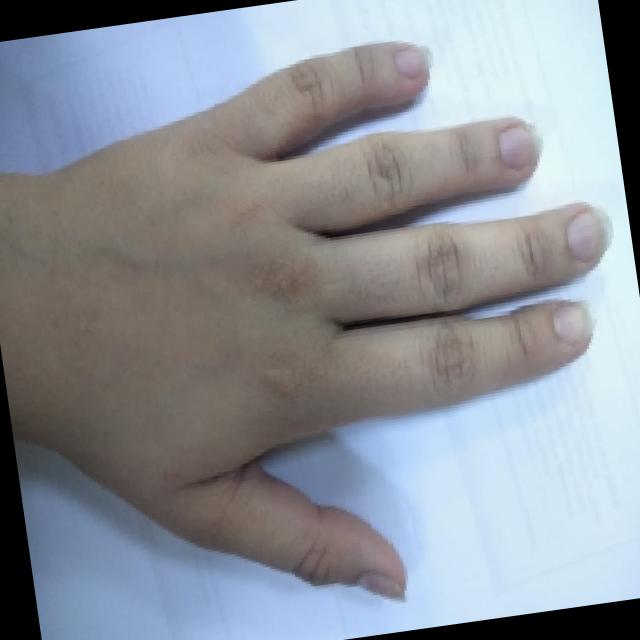Nail: (566, 207, 611, 264), (498, 124, 542, 169), (553, 304, 592, 343), (394, 46, 433, 77), (361, 572, 405, 599)
